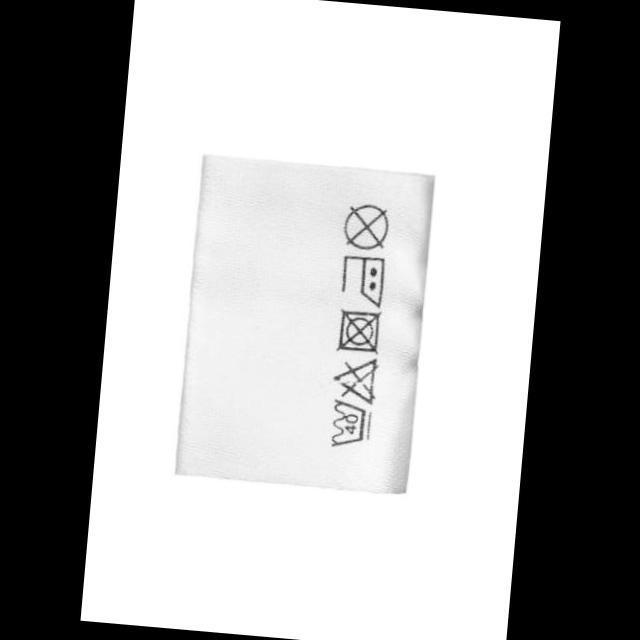40C: (326, 396, 376, 450)
DN_bleach: (327, 352, 381, 404)
DN_dry_clean: (339, 198, 394, 251)
DN_tumble_dry: (332, 303, 386, 358)
iron_medium: (336, 248, 389, 308)
